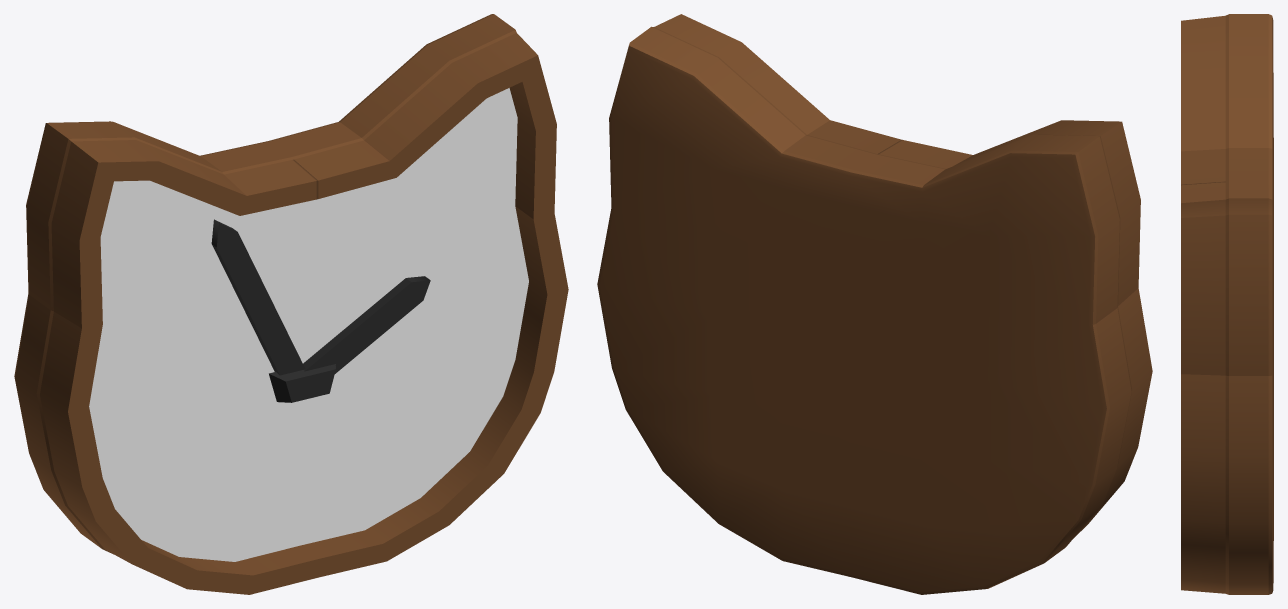
File: clock.fbx
3 views of the same model, side by side, from view 1: azimuth 30°, elevation 25°; view 2: azimuth 150°, elevation 25°; view 3: azimuth 270°, elevation 25° (orthographic). The views are drawn at different scales.
Visible parts, largest first — view 1: SM_Clock; view 2: SM_Clock; view 3: SM_Clock.
Part boxes in pixels (x1,y1,x2,y2): SM_Clock: [14, 14, 568, 594]; SM_Clock: [597, 14, 1152, 594]; SM_Clock: [1181, 14, 1273, 594].
Bounding box in the file's own units: 75.57 × 67.72 × 12.93.
